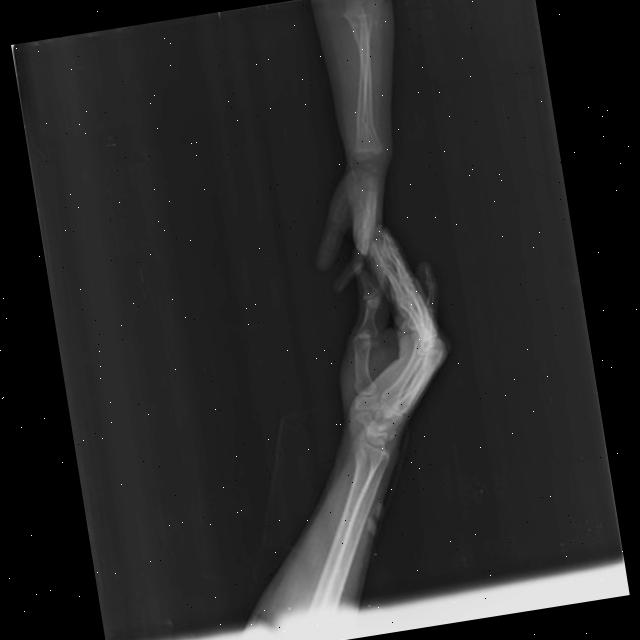fractured: (354, 109, 368, 129)
